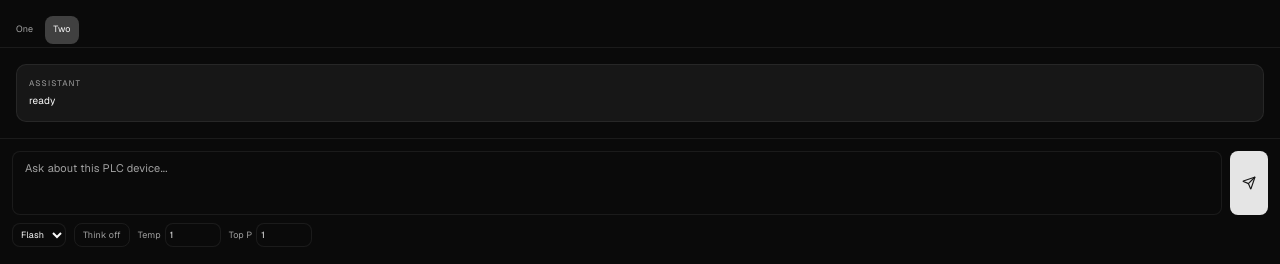
Test case: ChatWorkspace › reveals think effort and saves when think mode is toggled
This screenshot has width=1280, height=264.
Click the button with aria-label "Toggle think mode".
click(102, 235)  # box [74,223,130,247]
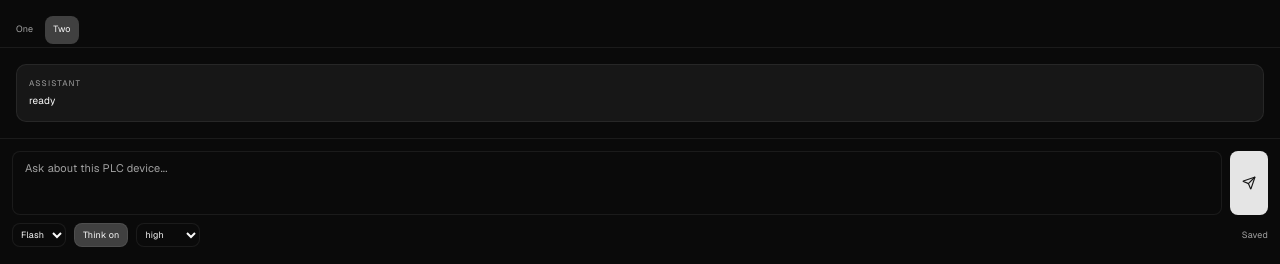
Check: the dropdown named "Think effort" is shown, box [136,223,200,247]
Check: the number field named "Temperature" is gone
Check: the text "Saved" is shown, box [1242,228,1268,242]
